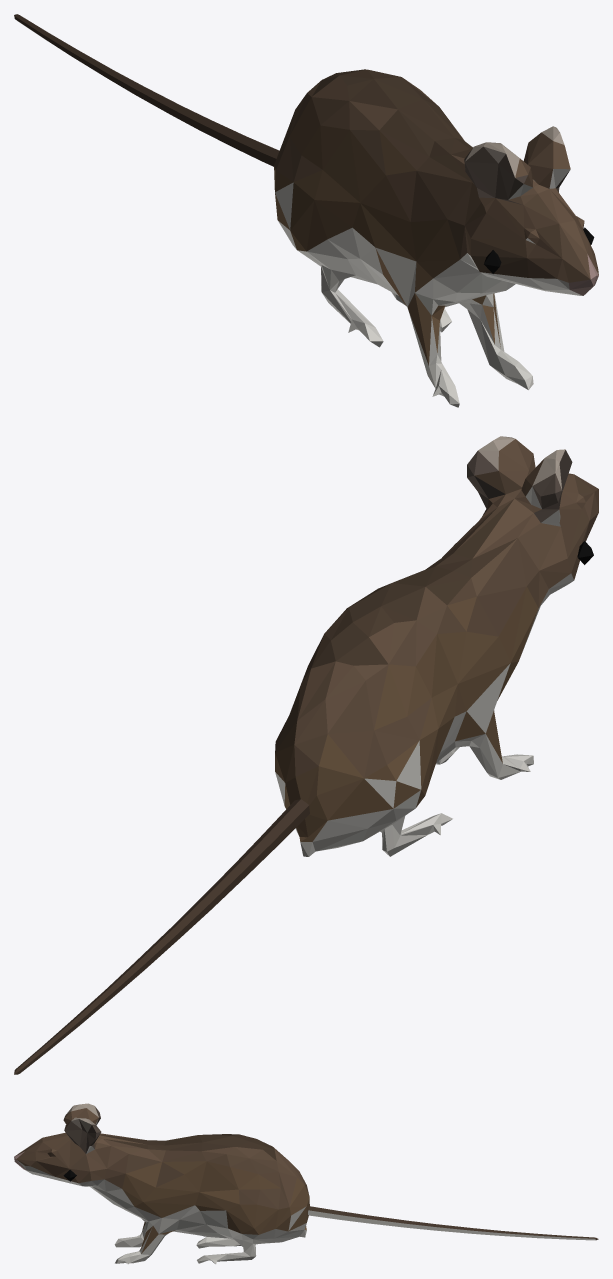
Rendered from deer_mouse.glb.
3 views of the same model, one above another, from view 1: azimuth 30°, elevation 25°; view 2: azimuth 150°, elevation 25°; view 3: azimuth 270°, elevation 25° (orthographic). The views are drawn at different scales.
Visible parts, largest first — view 1: lod0; view 2: lod0; view 3: lod0.
Boxes of the visible parts, box(x1,y1,x2,y2) form: lod0: box(14, 14, 598, 407); lod0: box(14, 436, 598, 1074); lod0: box(14, 1103, 598, 1264).
Size of what is drawn, in the model's own units: 0.0233 by 0.0494 by 0.1804.
